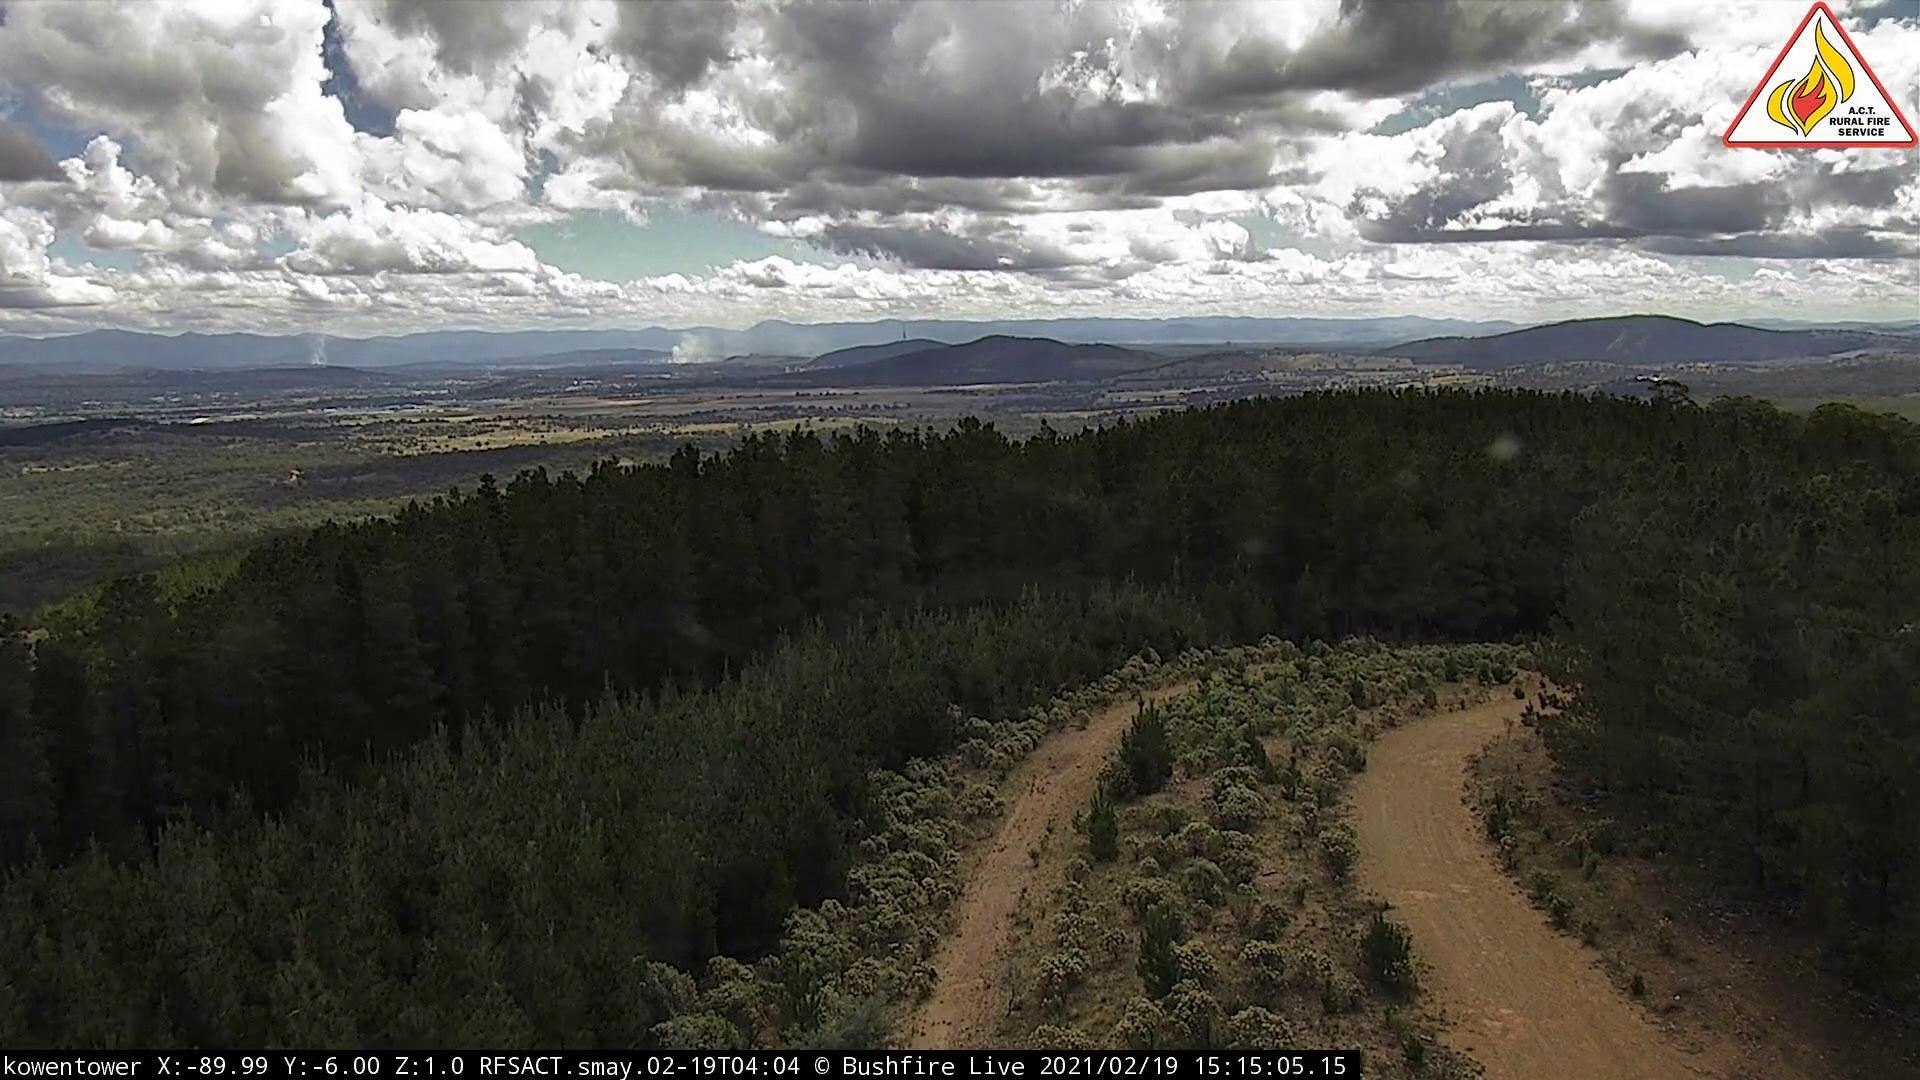Smoke: (282, 305, 355, 377), (669, 315, 754, 371)
